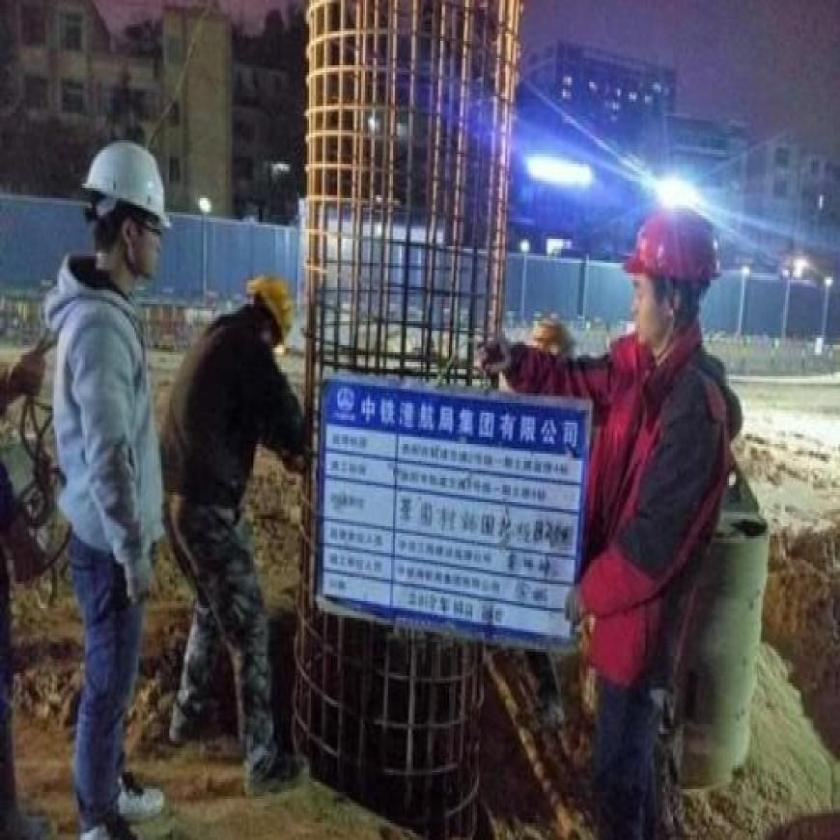Con_casco: (618, 191, 727, 374), (75, 134, 175, 298)
